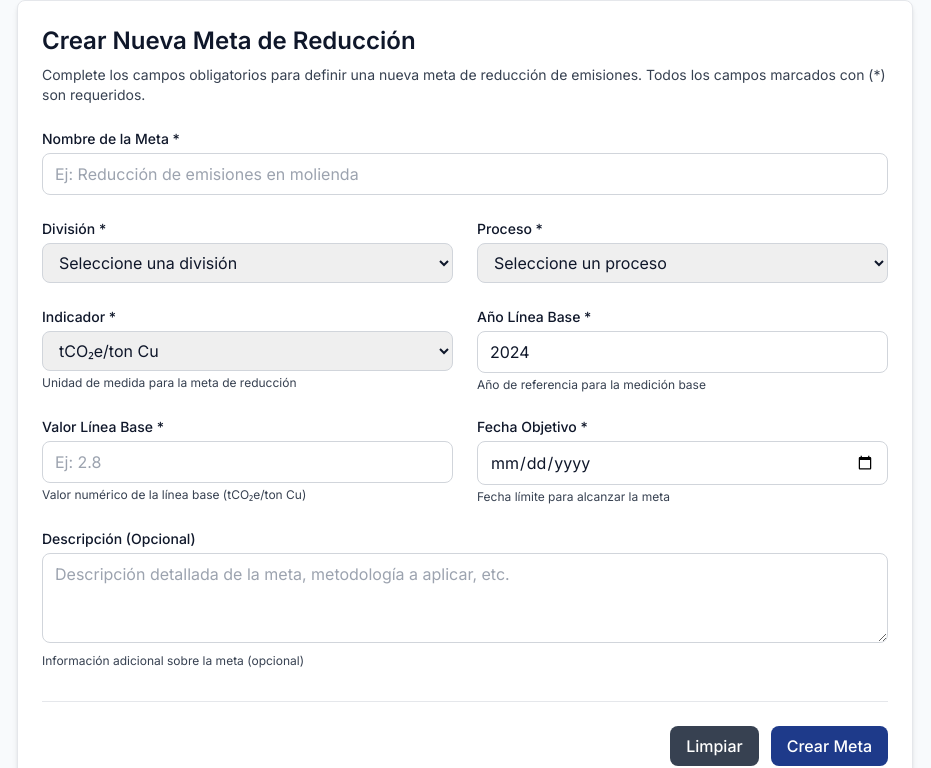
Test: FormularioMeta › CA-R01-2: debe mostrar errores cuando se intenta enviar con campos vacíos
# Intentar enviar formulario vacío
Click the button "Crear Meta" at (829,746), box [771,726,888,766]
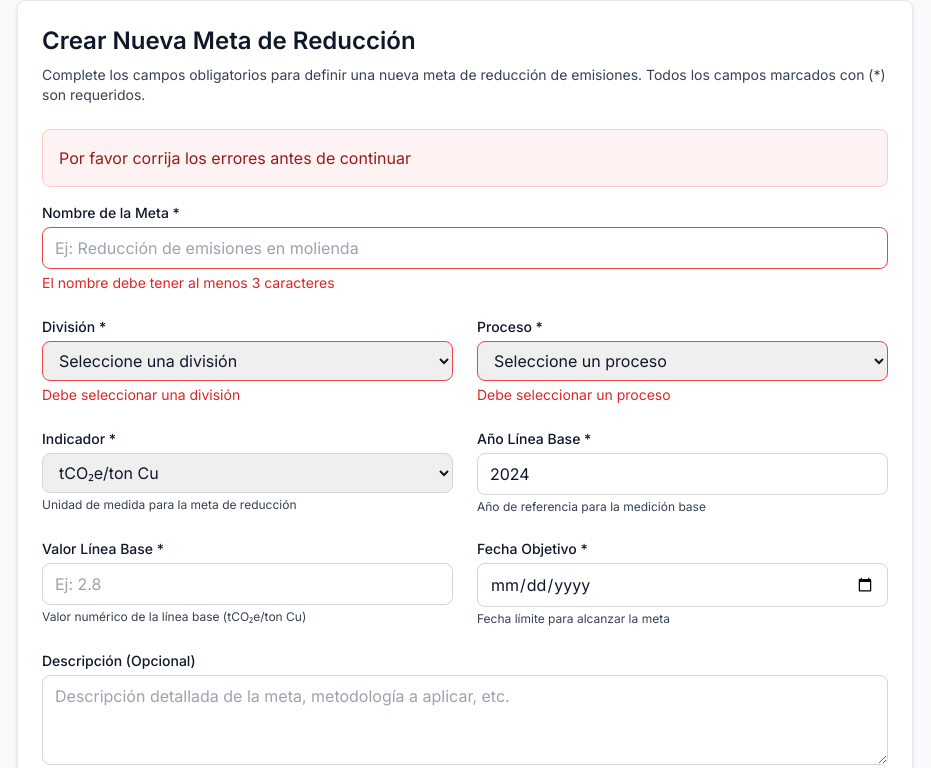
Expected: the text "El nombre debe tener al menos 3 caracteres" is shown, [42,274,335,291]
Expected: the text "Debe seleccionar una división" is shown, [42,386,240,403]
Expected: the text "Debe seleccionar un proceso" is shown, [477,386,671,403]
